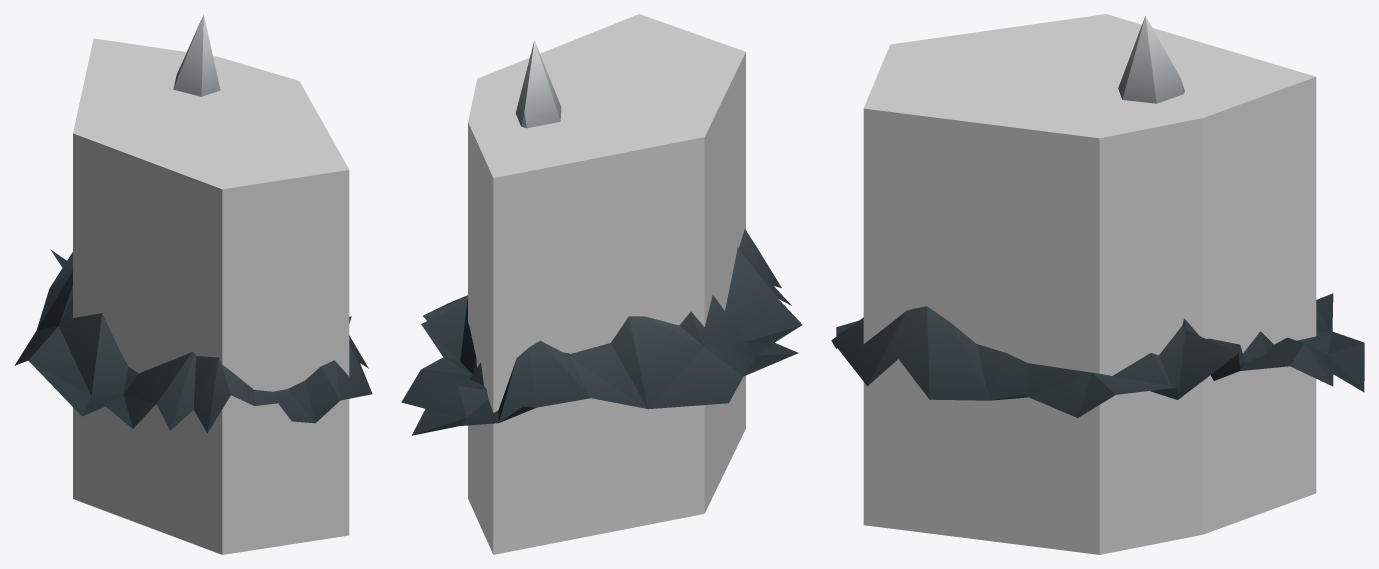
File: island_small_rock_Collection_6.fbx
3 views of the same model, side by side, from view 1: azimuth 30°, elevation 25°; view 2: azimuth 150°, elevation 25°; view 3: azimuth 270°, elevation 25° (orthographic). The views are drawn at different scales.
Visible parts, largest first — view 1: islandRock_6_col, islandRock_6; view 2: islandRock_6_col, islandRock_6; view 3: islandRock_6_col, islandRock_6.
Boxes of the visible parts, x1=… form: islandRock_6_col: x1=73, y1=38, x2=349, y2=554; islandRock_6: x1=14, y1=14, x2=372, y2=433; islandRock_6_col: x1=468, y1=14, x2=745, y2=554; islandRock_6: x1=401, y1=40, x2=802, y2=435; islandRock_6_col: x1=863, y1=14, x2=1316, y2=554; islandRock_6: x1=831, y1=16, x2=1364, y2=417.
Size of the model in its own units: 2020 by 2970 by 2888.
